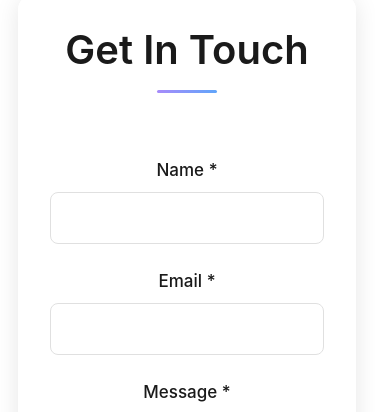
ContactSection › Validation › shows error for invalid email format
The image size is (375, 412).
Type "invalid-email" into the field labelled "Email *" at (187, 329), box x1=50 y1=303 x2=324 y2=355
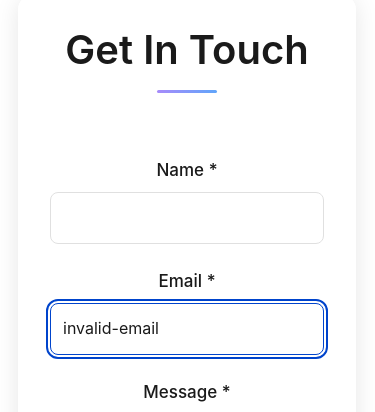
Press Tab
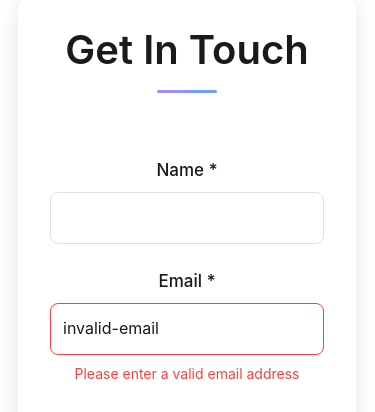
expect the message shows "valid email": met, box x1=74 y1=365 x2=300 y2=382
